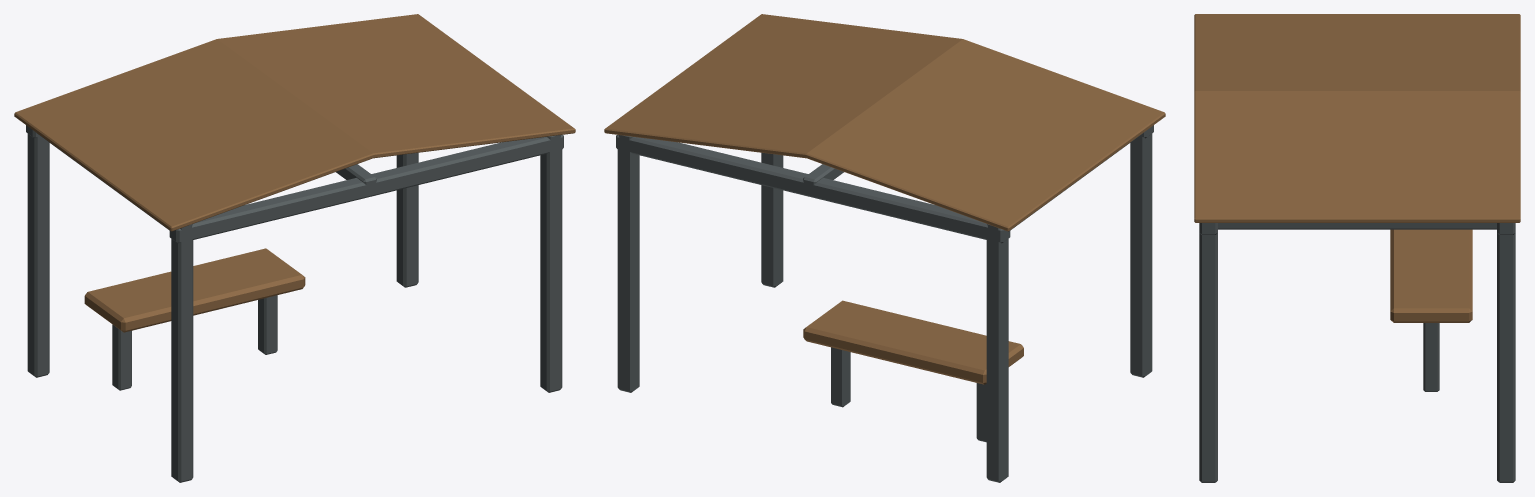
File: old_klim_loading_canopy.glb
3 renders of one model, left to right at view 1: azimuth 30°, elevation 25°; view 2: azimuth 150°, elevation 25°; view 3: azimuth 270°, elevation 25°, orthographic. The views are drawn at different scales.
Parts seen in each view (by area): view 1: old_klim_loading_canopy_old_klim_oxidised_canvas_mesh, old_klim_loading_canopy_old_klim_weathered_charcoal_steel_me; view 2: old_klim_loading_canopy_old_klim_oxidised_canvas_mesh, old_klim_loading_canopy_old_klim_weathered_charcoal_steel_me; view 3: old_klim_loading_canopy_old_klim_oxidised_canvas_mesh, old_klim_loading_canopy_old_klim_weathered_charcoal_steel_me.
Boxes of the visible parts, left/top/right/bottom form: old_klim_loading_canopy_old_klim_oxidised_canvas_mesh: left=14, top=14, right=575, bottom=332; old_klim_loading_canopy_old_klim_weathered_charcoal_steel_me: left=26, top=125, right=563, bottom=482; old_klim_loading_canopy_old_klim_oxidised_canvas_mesh: left=604, top=14, right=1165, bottom=384; old_klim_loading_canopy_old_klim_weathered_charcoal_steel_me: left=616, top=125, right=1153, bottom=482; old_klim_loading_canopy_old_klim_oxidised_canvas_mesh: left=1194, top=14, right=1520, bottom=322; old_klim_loading_canopy_old_klim_weathered_charcoal_steel_me: left=1199, top=223, right=1515, bottom=482.
Size of the model in its own units: 4.72 by 3.18 by 3.18.
